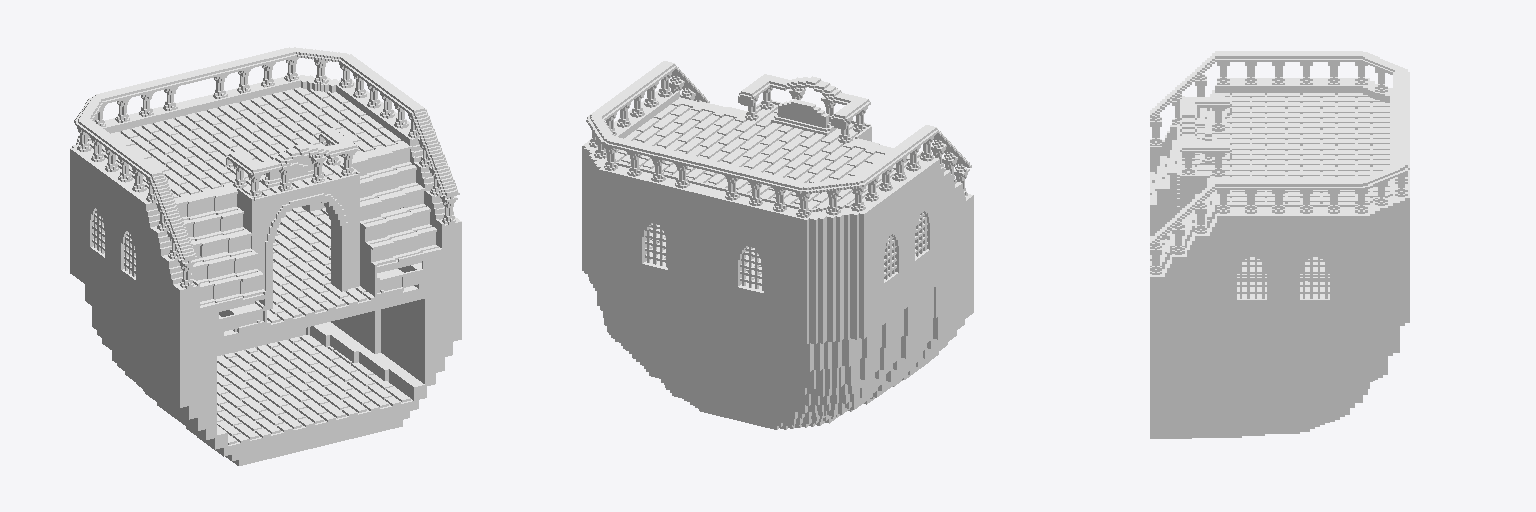
The model's file is ship-8.obj.
3 renders of one model, left to right at view 1: azimuth 30°, elevation 25°; view 2: azimuth 150°, elevation 25°; view 3: azimuth 270°, elevation 25°, orthographic.
Visible parts, largest first — view 1: object 1; view 2: object 1; view 3: object 1.
Part boxes in pixels (left/top/right/bottom): object 1: left=70, top=47, right=461, bottom=465; object 1: left=582, top=61, right=973, bottom=429; object 1: left=1150, top=51, right=1409, bottom=438.
Size of the model in its own units: 13 by 12.6 by 10.4.